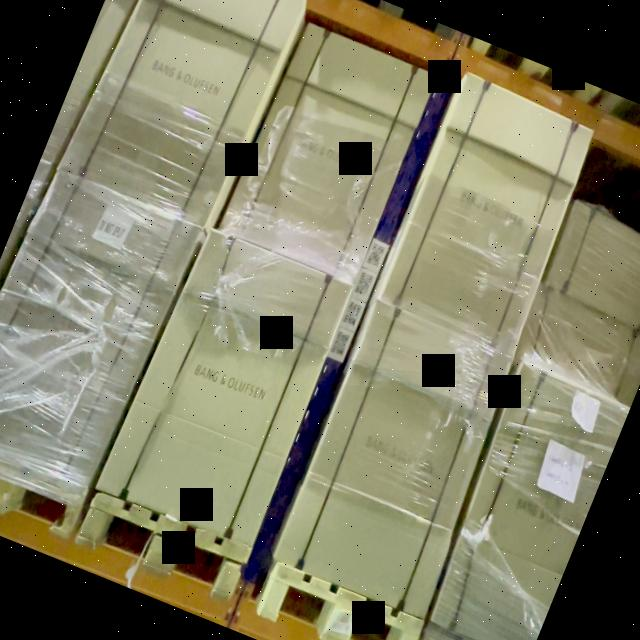box: (94, 230, 352, 551), (274, 301, 513, 621), (0, 171, 202, 488), (376, 72, 593, 356), (216, 22, 436, 285), (59, 0, 308, 227), (544, 201, 640, 335)
